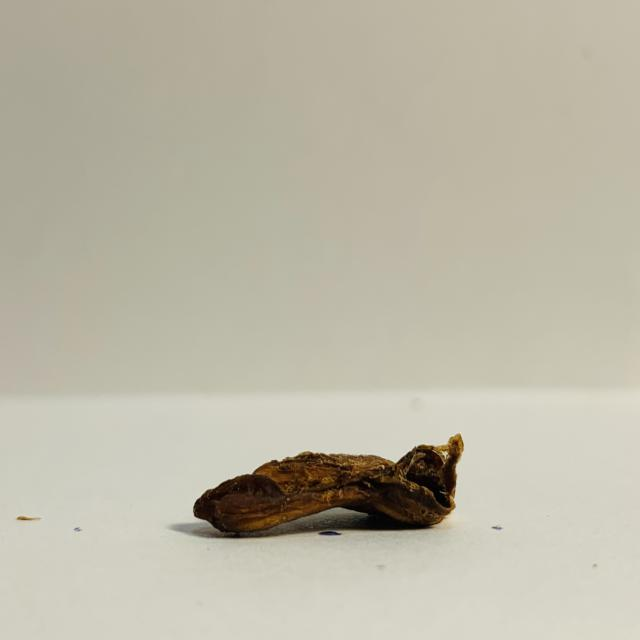Flat_cocoabeans: (50, 413, 521, 557)
